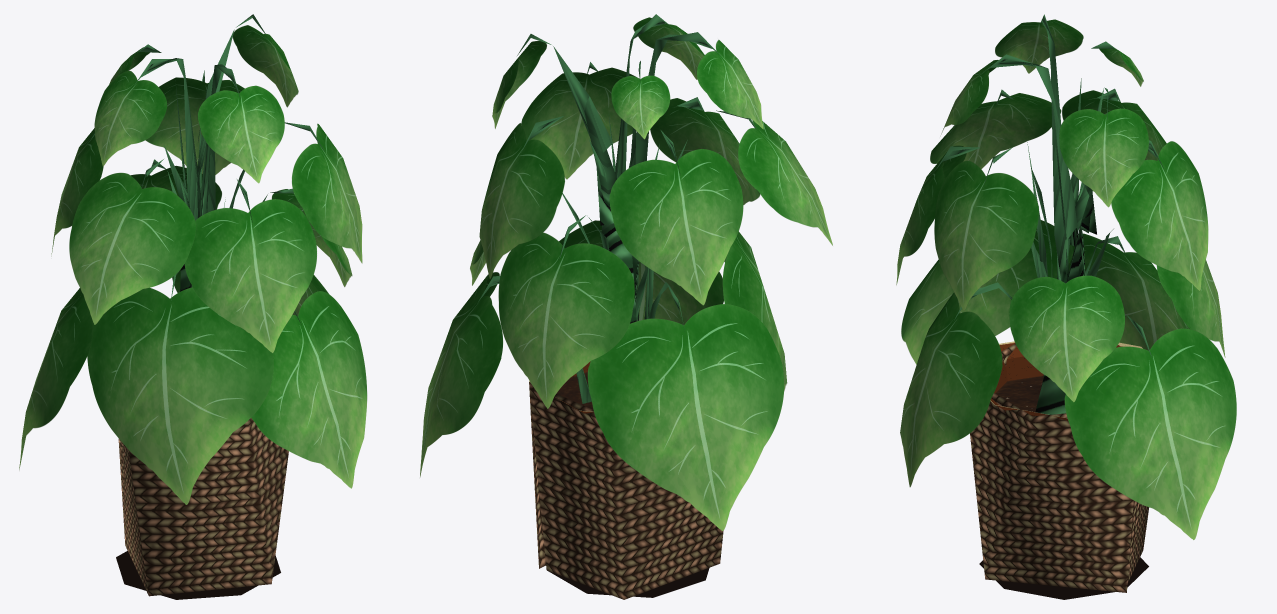
3 views of the same model, side by side, from view 1: azimuth 30°, elevation 25°; view 2: azimuth 150°, elevation 25°; view 3: azimuth 270°, elevation 25° (orthographic). The views are drawn at different scales.
Parts seen in each view (by area): view 1: Mesh_1.003, Mesh_0.005; view 2: Mesh_1.003, Mesh_0.005; view 3: Mesh_1.003, Mesh_0.005.
Boxes of the visible parts, x1,y1,x2,y2 form: Mesh_1.003: (19, 25, 367, 504); Mesh_0.005: (89, 14, 324, 599); Mesh_1.003: (420, 17, 832, 530); Mesh_0.005: (477, 14, 757, 599); Mesh_1.003: (896, 19, 1236, 539); Mesh_0.005: (935, 14, 1164, 599).
Bounding box in the file's own units: 3.78 × 5.58 × 3.83.
2 materials, 2 textured.
